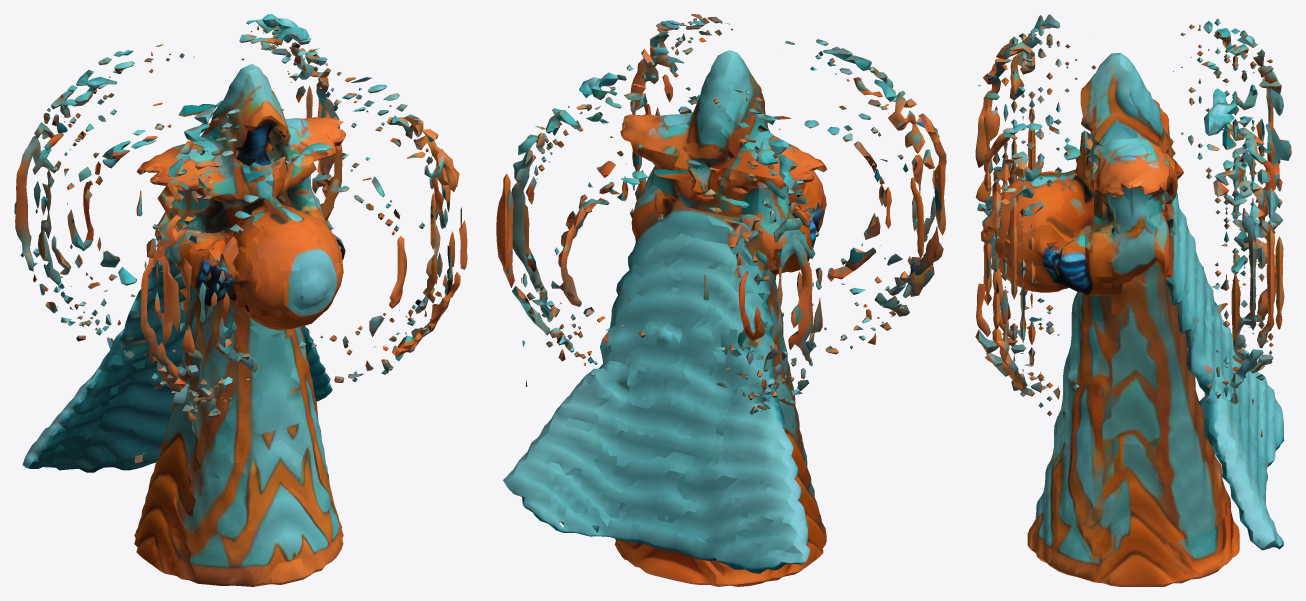
File: WizElementMage.glb
The picture shows the model from 3 angles, left to right: view 1: azimuth 30°, elevation 25°; view 2: azimuth 150°, elevation 25°; view 3: azimuth 270°, elevation 25°; orthographic projection.
Visible parts, largest first — view 1: tmp_qny1sda.ply; view 2: tmp_qny1sda.ply; view 3: tmp_qny1sda.ply.
Boxes of the visible parts, x1=… form: tmp_qny1sda.ply: x1=14, y1=14, x2=467, y2=586; tmp_qny1sda.ply: x1=496, y1=14, x2=946, y2=586; tmp_qny1sda.ply: x1=975, y1=14, x2=1291, y2=586.
Bounding box in the file's own units: 1.3 × 1.92 × 1.11.
Materials: 1 (1 with a texture image).
